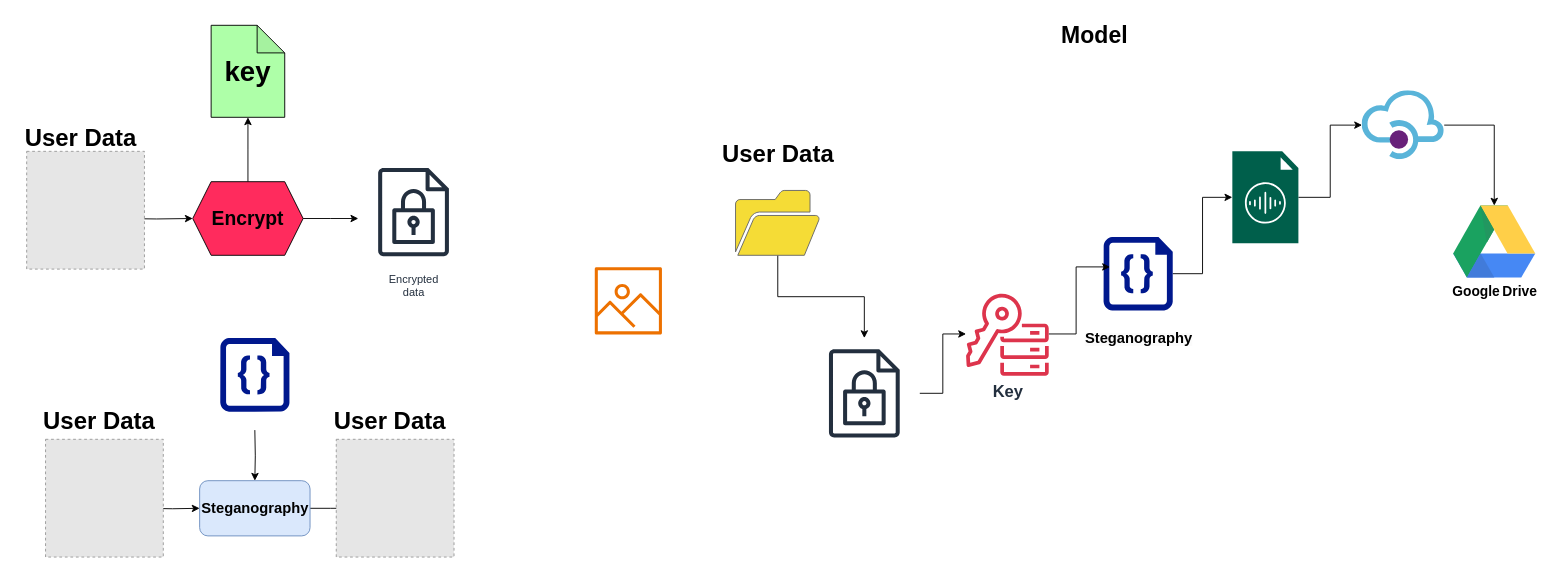
The diagram is 1553 pixels wide and 573 high, and some of its shapes have lost their labels. Grey dashed boxes stand in for pictures. Each missing label, with the centre of its shape:
Encrypted User Data: (864,392)
Google Drive API: (1403,124)
Music FIle: (1265,197)
